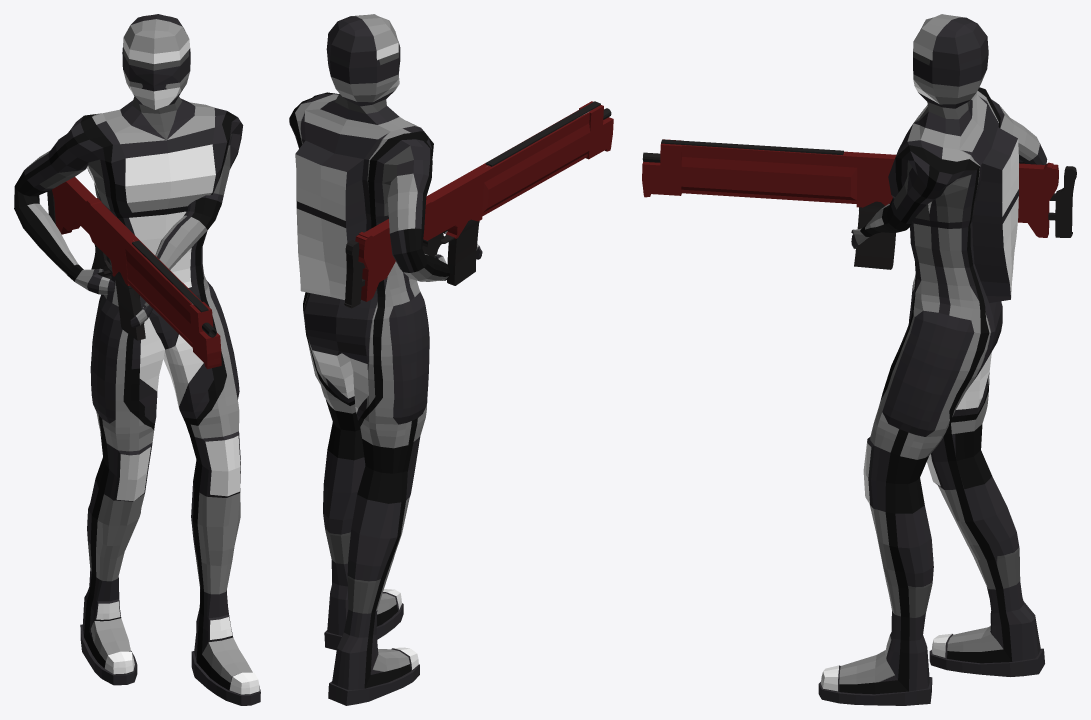
Rendered from SCI3.obj.
The picture shows the model from 3 angles, left to right: view 1: azimuth 30°, elevation 25°; view 2: azimuth 150°, elevation 25°; view 3: azimuth 270°, elevation 25°; orthographic projection. The views are drawn at different scales.
Visible parts, largest first — view 1: metarig_object_metarig_mesh, Cube.001; view 2: metarig_object_metarig_mesh, Cube.001; view 3: metarig_object_metarig_mesh, Cube.001.
Part boxes in pixels (x1,y1,x2,y2): metarig_object_metarig_mesh: (14,14,260,705); Cube.001: (47,177,221,369); metarig_object_metarig_mesh: (289,14,482,705); Cube.001: (344,101,613,308); metarig_object_metarig_mesh: (818,14,1047,705); Cube.001: (642,139,1076,269).
Size of the model in its own units: 0.4449 by 1.53 by 0.9099.
2 materials, 2 textured.
